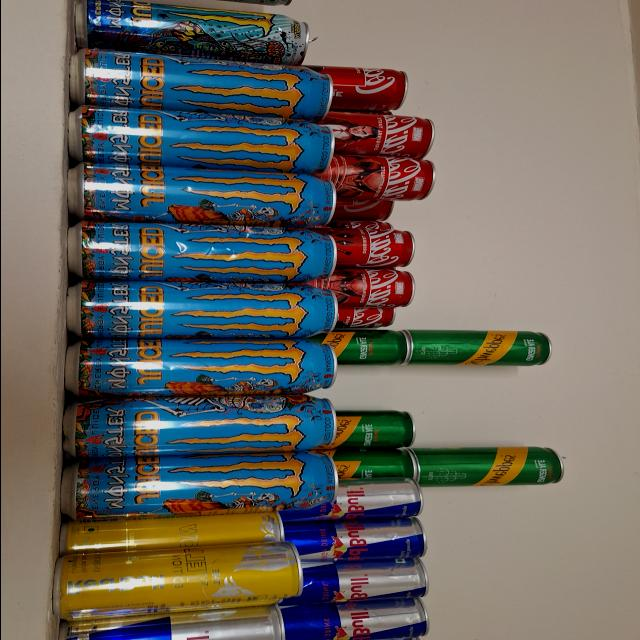Coca Cola: (336, 200, 392, 219)
Coca Cola - Marvel: (332, 156, 436, 198), (334, 115, 432, 156), (330, 268, 414, 310), (328, 65, 401, 111), (334, 230, 414, 267), (332, 310, 390, 328), (338, 218, 390, 229)
Monster Aussie Lemonade: (77, 0, 311, 63)
Monster Mango Loco: (65, 51, 332, 116), (74, 109, 328, 172), (64, 456, 337, 514), (67, 398, 339, 454), (71, 219, 337, 276), (66, 341, 336, 395), (72, 280, 330, 336), (76, 170, 332, 225)
Redbul: (55, 612, 289, 640), (285, 604, 425, 640), (292, 523, 424, 559), (298, 564, 426, 600), (334, 486, 416, 518)
Redbull Yellow Edition: (57, 550, 296, 610), (55, 514, 284, 548)
Schweppes: (412, 442, 564, 490), (404, 330, 550, 366), (336, 412, 412, 448), (333, 331, 403, 362), (332, 452, 412, 476)
